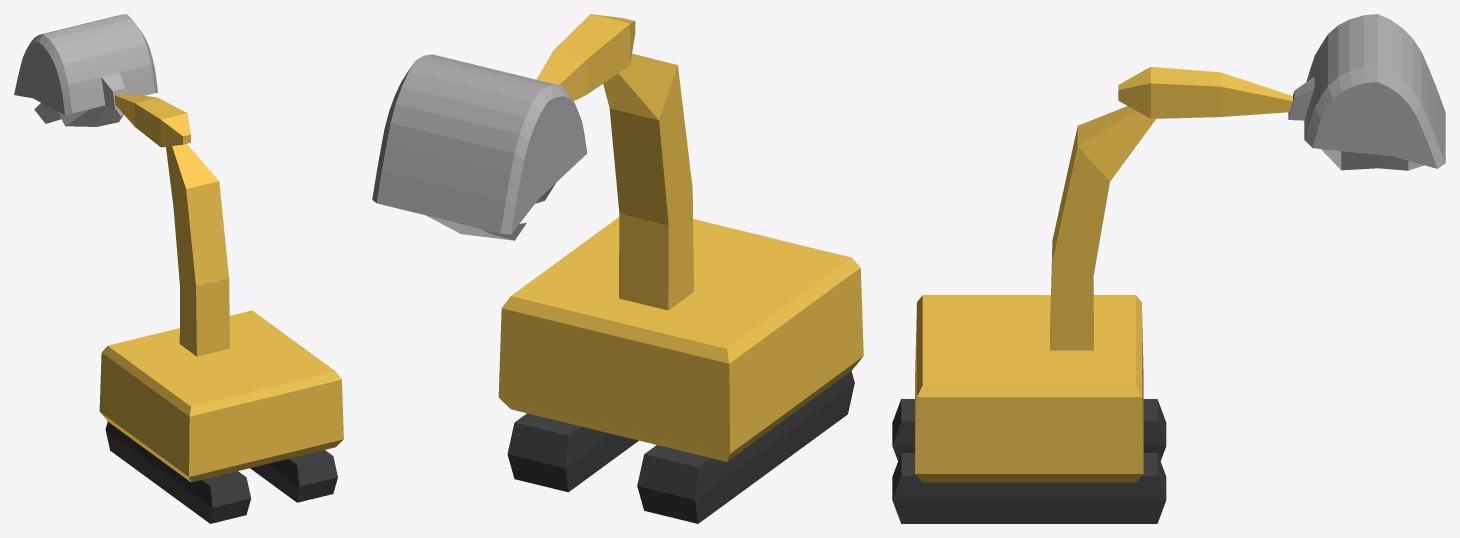
Rendered from Excavator.glb.
3 renders of one model, left to right at view 1: azimuth 30°, elevation 25°; view 2: azimuth 150°, elevation 25°; view 3: azimuth 270°, elevation 25°, orthographic. The views are drawn at different scales.
Parts seen in each view (by area): view 1: Body, Scoop, Arm1, Track2, Track1, Arm2, ScoopContents; view 2: Body, Scoop, Arm1, Track2, Track1, Arm2, ScoopContents; view 3: Body, Scoop, Track1, Arm1, Arm2, Track2, ScoopContents.
Part boxes in pixels (x1,y1,x2,y2): Body: (99,310,343,482); Scoop: (14,14,157,114); Arm1: (166,144,229,356); Track2: (105,422,250,523); Track1: (250,450,337,502); Arm2: (114,93,190,147); ScoopContents: (34,103,123,126); Body: (498,217,863,461); Scoop: (372,54,587,234); Arm1: (603,53,693,310); Track2: (637,371,854,523); Track1: (507,413,638,492); Arm2: (536,14,635,100); ScoopContents: (426,182,556,240); Body: (915,295,1143,482); Scoop: (1288,14,1445,168); Track1: (892,453,1166,523); Arm1: (1050,106,1155,350); Arm2: (1118,67,1292,118); Track2: (892,399,1166,460); ScoopContents: (1321,149,1423,170).
Bounding box in the file's own units: 0.8148 × 1.75 × 1.97.
